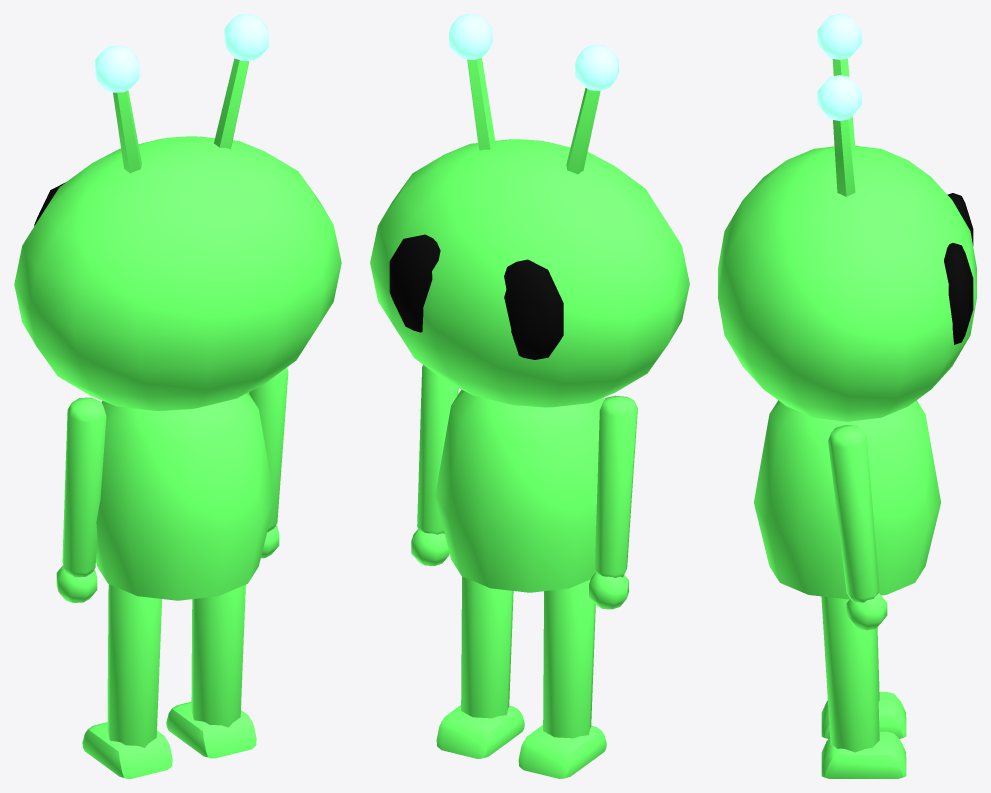
The model's file is alien.glb.
The picture shows the model from 3 angles, left to right: view 1: azimuth 30°, elevation 25°; view 2: azimuth 150°, elevation 25°; view 3: azimuth 270°, elevation 25°; orthographic projection. The views are drawn at different scales.
Parts seen in each view (by area): view 1: Body, LegLMesh, LegRMesh, ArmLMesh, ArmRMesh; view 2: Body, LegLMesh, LegRMesh, ArmLMesh, ArmRMesh; view 3: Body, LegRMesh, ArmRMesh, LegLMesh.
Boxes of the visible parts, <box> form: Body: <box>14,14,341,600</box>; LegLMesh: <box>82,584,172,778</box>; LegRMesh: <box>166,584,256,758</box>; ArmLMesh: <box>56,397,106,602</box>; ArmRMesh: <box>248,367,288,558</box>; Body: <box>370,14,689,592</box>; LegLMesh: <box>518,579,606,778</box>; LegRMesh: <box>436,576,524,758</box>; ArmLMesh: <box>589,395,637,609</box>; ArmRMesh: <box>411,365,458,565</box>; Body: <box>718,14,976,599</box>; LegRMesh: <box>821,596,906,778</box>; ArmRMesh: <box>828,425,887,630</box>; LegLMesh: <box>821,627,906,738</box>.
Bounding box in the file's own units: 0.85 × 1.99 × 0.663.
